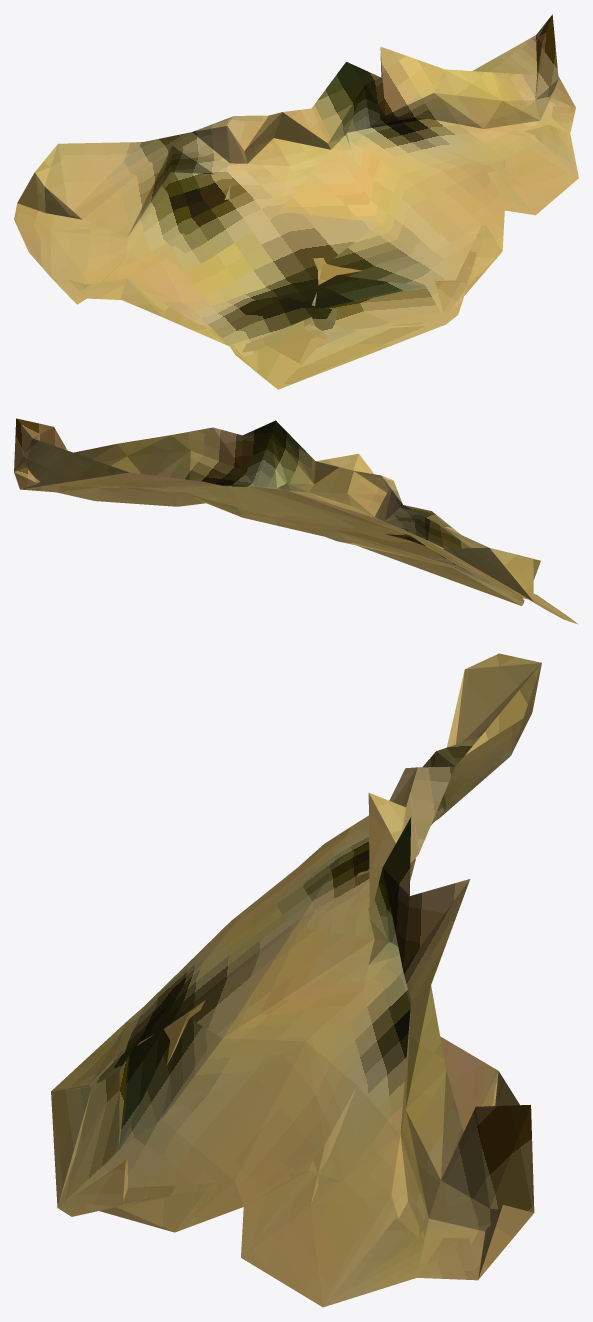
File: ewm_t2general_hat.glb
3 views of the same model, one above another, from view 1: azimuth 30°, elevation 25°; view 2: azimuth 150°, elevation 25°; view 3: azimuth 270°, elevation 25° (orthographic). The views are drawn at different scales.
Parts seen in each view (by area): view 1: ewm_t2general_hat; view 2: ewm_t2general_hat; view 3: ewm_t2general_hat.
Boxes of the visible parts, x1,y1,x2,y2 form: ewm_t2general_hat: (14, 14, 578, 389); ewm_t2general_hat: (14, 418, 578, 624); ewm_t2general_hat: (51, 653, 541, 1307).
Size of the model in its own units: 0.0548 by 0.0208 by 0.0217.
Materials: 1 (1 with a texture image).
